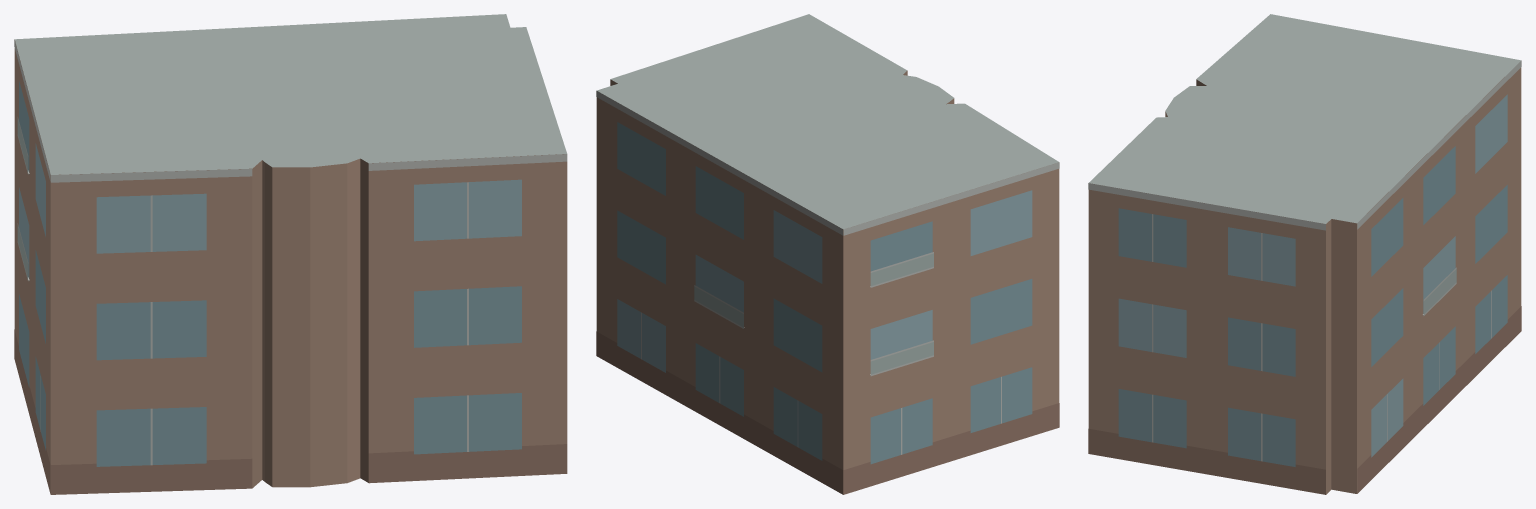
File: survey-upis-32520799.glb
3 views of the same model, side by side, from view 1: azimuth 30°, elevation 25°; view 2: azimuth 150°, elevation 25°; view 3: azimuth 270°, elevation 25° (orthographic). The views are drawn at different scales.
Parts seen in each view (by area): view 1: survey-upis-32520799.tmp; view 2: survey-upis-32520799.tmp; view 3: survey-upis-32520799.tmp.
Part boxes in pixels (<box>): survey-upis-32520799.tmp: <box>14,14,567,494</box>; survey-upis-32520799.tmp: <box>596,14,1059,494</box>; survey-upis-32520799.tmp: <box>1088,14,1521,494</box>.
Size of the model in its own units: 16.81 by 10.1 by 14.64.
